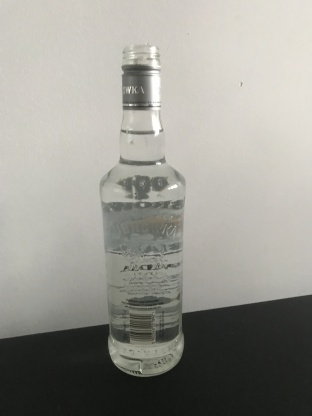nakretka: (119, 42, 163, 112)
